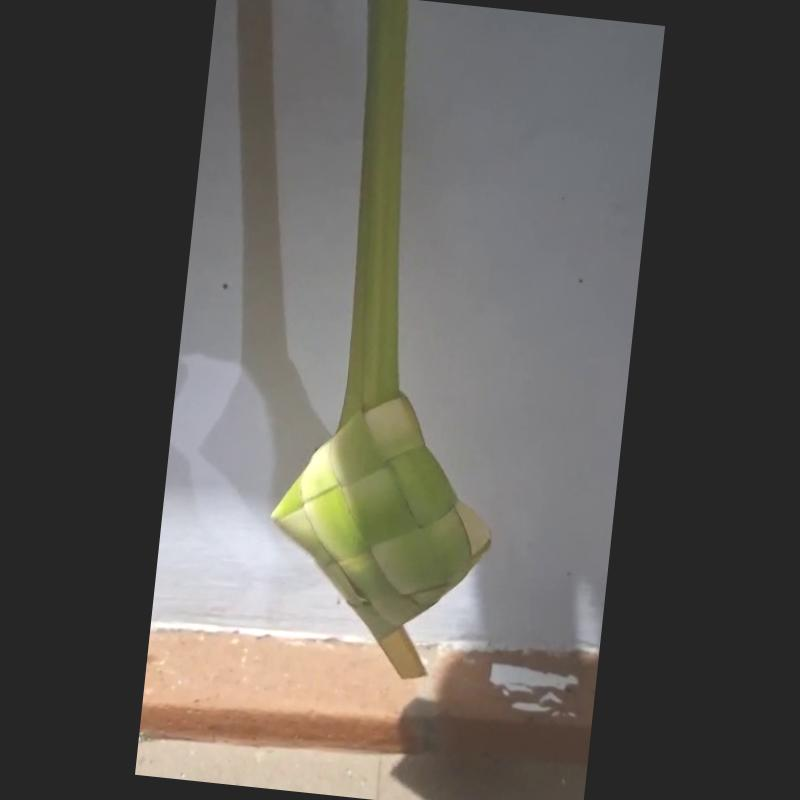Tipat Nasi: (262, 382, 507, 680)
